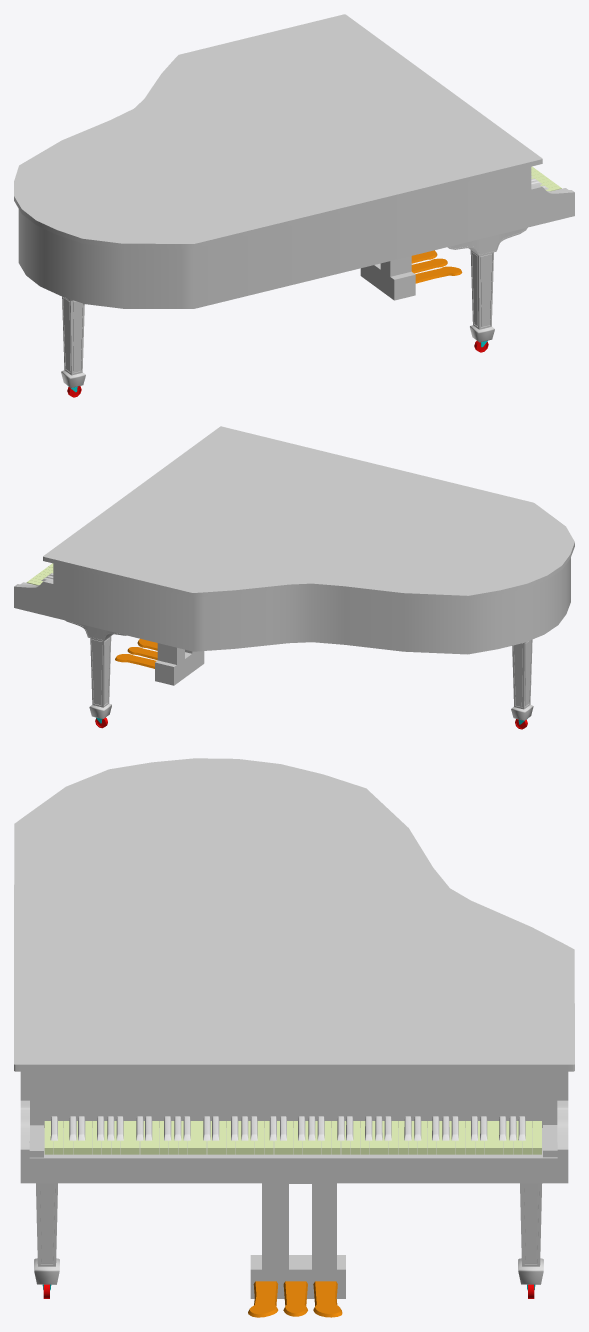
File: PainoModel.glb
3 renders of one model, top to bottom at view 1: azimuth 30°, elevation 25°; view 2: azimuth 150°, elevation 25°; view 3: azimuth 270°, elevation 25°, orthographic. The views are drawn at different scales.
Visible parts, largest first — view 1: Piano, Plane004, Plane005, Box001, Plane006; view 2: Piano, Plane004, Box001, Plane005, Plane006; view 3: Piano, TastoBianco, TastoNero, Box001, Plane004, Plane006.
Part boxes in pixels (x1=…): Piano: x1=14, y1=14, x2=574, y2=308; Plane004: x1=447, y1=227, x2=527, y2=342; Plane005: x1=61, y1=296, x2=85, y2=387; Box001: x1=360, y1=256, x2=415, y2=300; Plane006: x1=411, y1=250, x2=462, y2=283; Piano: x1=14, y1=426, x2=574, y2=654; Plane004: x1=65, y1=620, x2=126, y2=718; Box001: x1=155, y1=643, x2=204, y2=685; Plane005: x1=511, y1=639, x2=533, y2=720; Plane006: x1=115, y1=638, x2=157, y2=668; Piano: x1=14, y1=758, x2=574, y2=1183; TastoBianco: x1=44, y1=1121, x2=541, y2=1154; TastoNero: x1=50, y1=1116, x2=525, y2=1140; Box001: x1=250, y1=1183, x2=345, y2=1298; Plane004: x1=34, y1=1183, x2=543, y2=1284; Plane006: x1=248, y1=1281, x2=342, y2=1317.
Size of the model in its own units: 0.7878 by 0.2977 by 0.5659.
